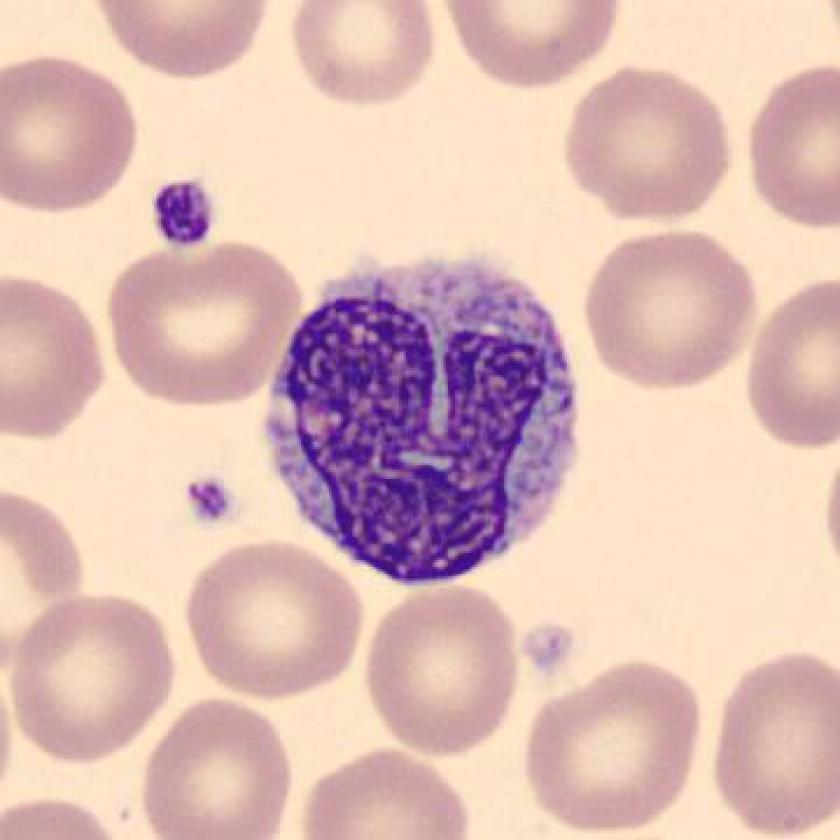monocyte: (246, 240, 594, 617)
